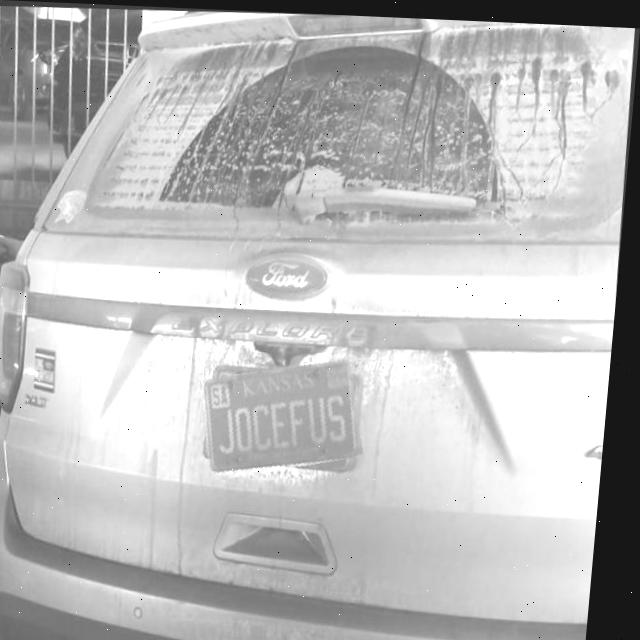LicensePlate: (211, 355, 368, 469)
